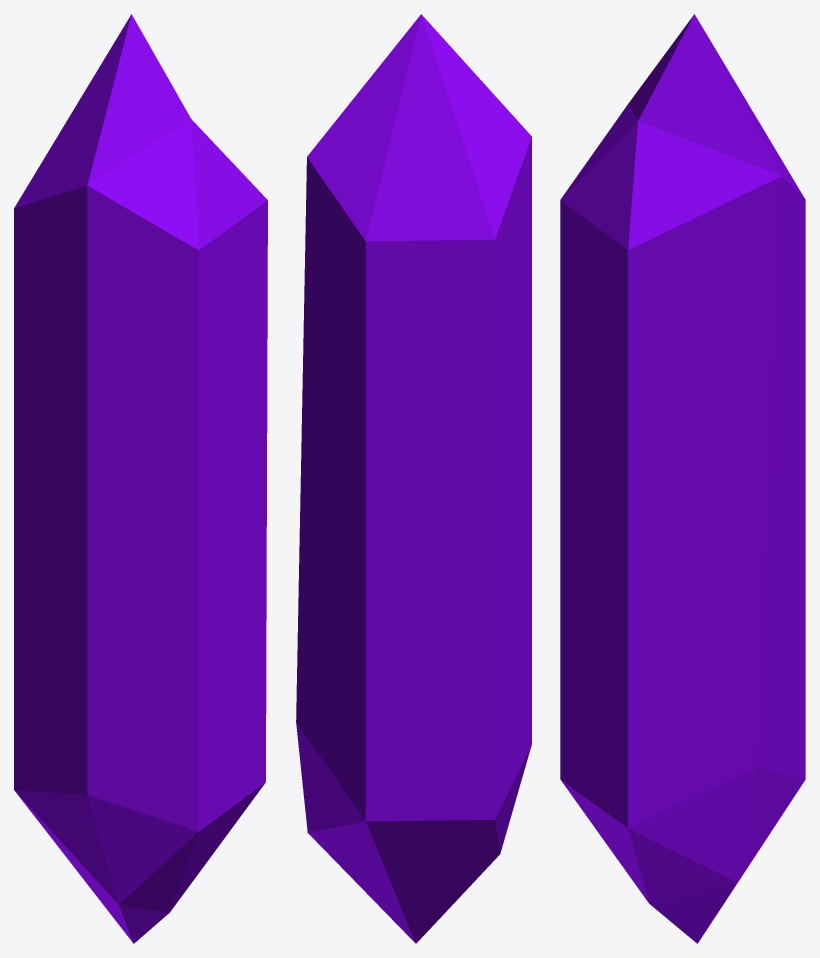
The model's file is Crystal.fbx.
3 renders of one model, left to right at view 1: azimuth 30°, elevation 25°; view 2: azimuth 150°, elevation 25°; view 3: azimuth 270°, elevation 25°, orthographic.
Visible parts, largest first — view 1: pPlatonic1; view 2: pPlatonic1; view 3: pPlatonic1.
Boxes of the visible parts, x1=… form: pPlatonic1: x1=14, y1=14, x2=267, y2=943; pPlatonic1: x1=296, y1=14, x2=531, y2=943; pPlatonic1: x1=560, y1=14, x2=805, y2=943.
Bounding box in the file's own units: 1.86 × 8.34 × 2.
